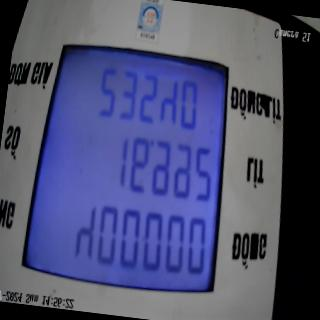screen: (15, 30, 247, 319)
